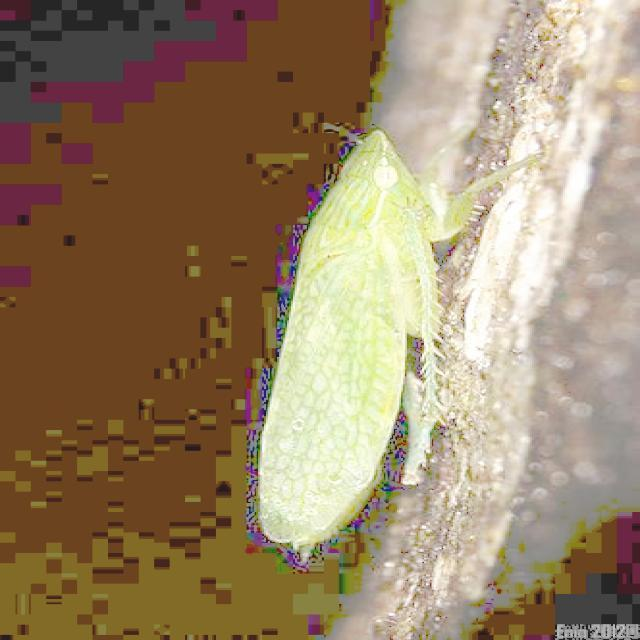green-leafhopper: (264, 129, 472, 547)
